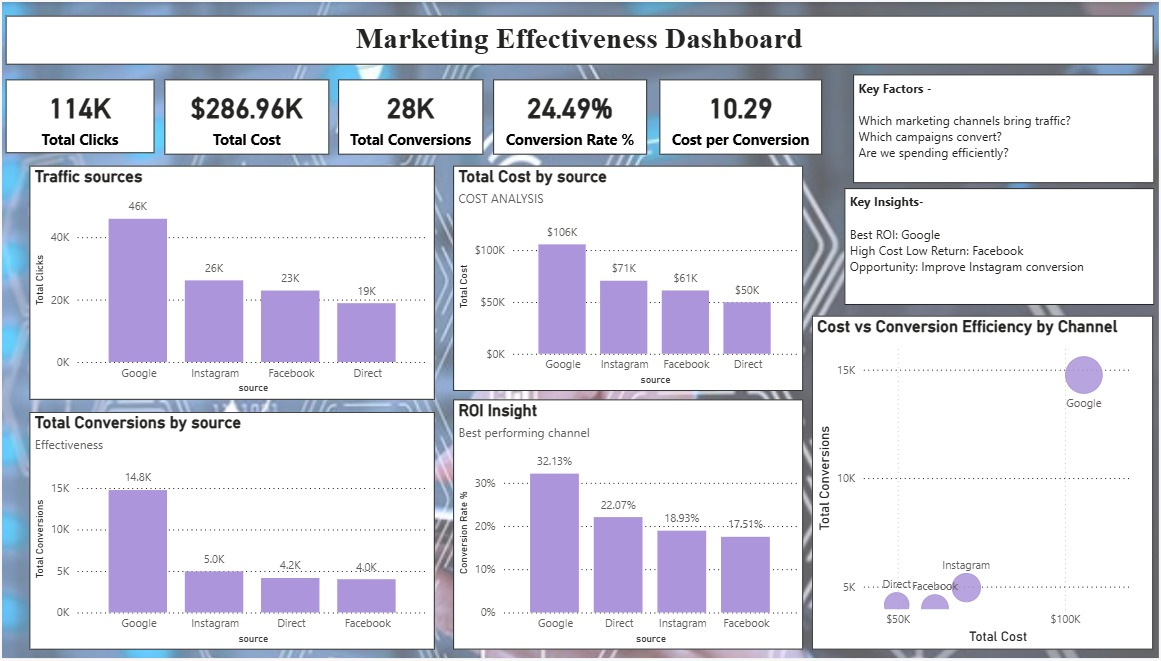

Layout of this report page (visuals, bound fields, positions):
{"tool":"powerbi","page":{"name":"MARKETING EFFECTIVENESS DASHBOARD","canvas":[1280,720],"ordinal":5},"visuals":[{"type":"textbox","box":[9.6,15.1,1259.7,53.5],"z":0},{"type":"textbox","box":[940,79.6,330.7,119.4],"z":1},{"type":"clusteredColumnChart","title":"Traffic sources","fields":{"Category":["campaigns.source"],"Y":["campaigns.Total Clicks"]},"box":[35.7,179.8,444.6,256.6],"z":2},{"type":"clusteredColumnChart","fields":{"Category":["campaigns.source"],"Y":["campaigns.Total Conversions"]},"box":[35.7,450.1,444.6,260.7],"z":3},{"type":"clusteredColumnChart","fields":{"Category":["campaigns.source"],"Y":["campaigns.Total Cost"]},"box":[500.9,179.8,384.2,247],"z":4},{"type":"clusteredColumnChart","title":"ROI Insight","fields":{"Category":["campaigns.source"],"Y":["campaigns.Conversion Rate %"]},"box":[500.9,436.4,384.2,274.4],"z":5},{"type":"card","fields":{"Values":["campaigns.Total Clicks"]},"box":[9.6,85.1,163.3,81],"z":6},{"type":"card","fields":{"Values":["campaigns.Total Cost"]},"box":[183.9,85.1,181.1,82.3],"z":7},{"type":"card","fields":{"Values":["campaigns.Total Conversions"]},"box":[374.6,85.1,159.2,82.3],"z":8},{"type":"card","fields":{"Values":["campaigns.Conversion Rate %"]},"box":[544.8,85.1,168.8,82.3],"z":9},{"type":"card","fields":{"Values":["campaigns.Cost per Conversion"]},"box":[727.3,85.1,178.4,82.3],"z":10},{"type":"scatterChart","title":"Cost vs Conversion Efficiency by Channel","fields":{"X":["campaigns.Total Cost"],"Y":["campaigns.Total Conversions"],"Size":["campaigns.Total Clicks"],"Category":["campaigns.source"]},"box":[894.7,344.4,374.6,366.4],"z":11},{"type":"textbox","box":[930.4,204.5,340.3,127.6],"z":12}]}

Visuals, with their boxes in screenshot pixels (x1, y1, x2, y2), scaled from the page's 1280x720 canvas onto the 1161x661 screenshot:
textbox: {"x1": 9, "y1": 14, "x2": 1151, "y2": 63}
textbox: {"x1": 853, "y1": 73, "x2": 1153, "y2": 183}
"Traffic sources" clusteredColumnChart: {"x1": 32, "y1": 165, "x2": 436, "y2": 401}
clusteredColumnChart - campaigns.source x campaigns.Total Conversions: {"x1": 32, "y1": 413, "x2": 436, "y2": 653}
clusteredColumnChart - campaigns.source x campaigns.Total Cost: {"x1": 454, "y1": 165, "x2": 803, "y2": 392}
"ROI Insight" clusteredColumnChart: {"x1": 454, "y1": 401, "x2": 803, "y2": 653}
card - campaigns.Total Clicks: {"x1": 9, "y1": 78, "x2": 157, "y2": 152}
card - campaigns.Total Cost: {"x1": 167, "y1": 78, "x2": 331, "y2": 154}
card - campaigns.Total Conversions: {"x1": 340, "y1": 78, "x2": 484, "y2": 154}
card - campaigns.Conversion Rate %: {"x1": 494, "y1": 78, "x2": 647, "y2": 154}
card - campaigns.Cost per Conversion: {"x1": 660, "y1": 78, "x2": 821, "y2": 154}
"Cost vs Conversion Efficiency by Channel" scatterChart: {"x1": 812, "y1": 316, "x2": 1151, "y2": 653}
textbox: {"x1": 844, "y1": 188, "x2": 1153, "y2": 305}
